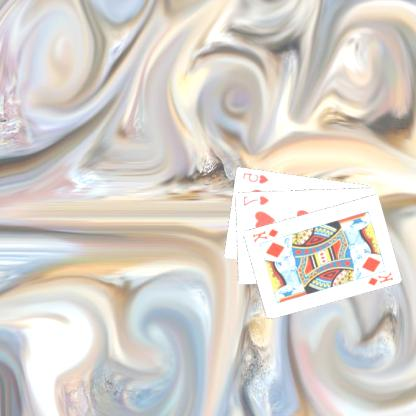5H: (242, 170, 272, 185)
7H: (242, 193, 272, 207)
KD: (251, 225, 281, 244), (366, 269, 396, 287)
